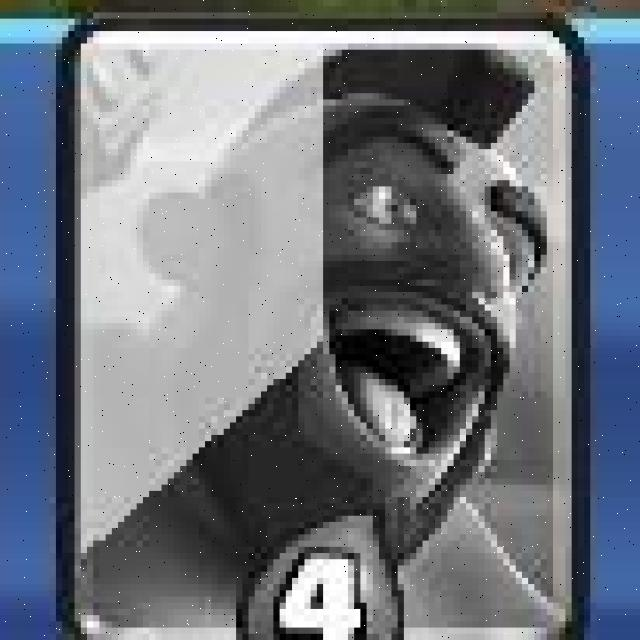Hog_Rider: (61, 15, 585, 640)
